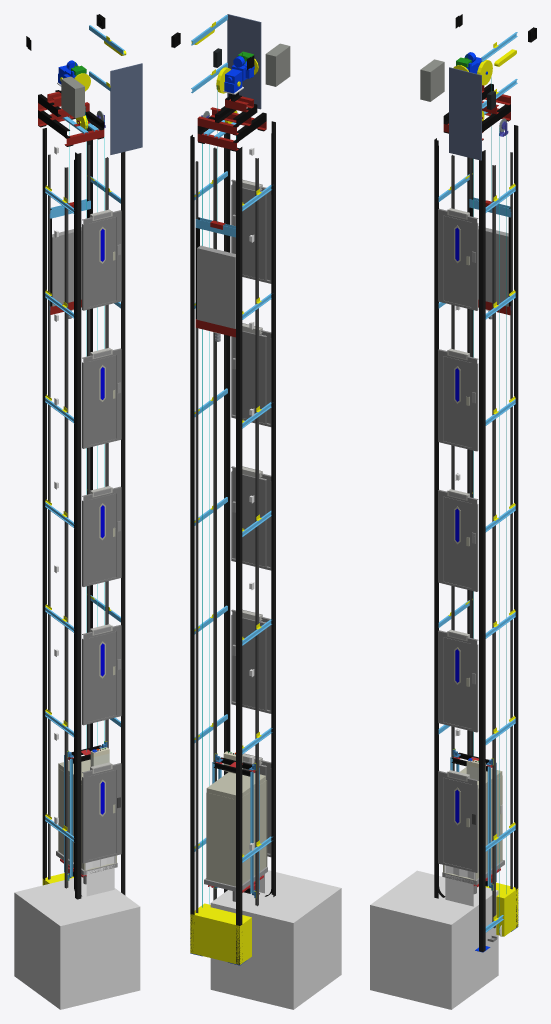
The model's file is elevator.glb.
3 views of the same model, side by side, from view 1: azimuth 30°, elevation 25°; view 2: azimuth 150°, elevation 25°; view 3: azimuth 330°, elevation 25° (orthographic). The views are drawn at different scales.
Visible parts, largest first — view 1: Cube, 01_L1.Geo.001, 01_L4.Geo., 01_L2.Geo.001, Door.Geo., 01_L1.Geo., ShaftDoor.Geo.065, ShaftDoor.Geo.045, ShaftDoor.Geo.005, ShaftDoor.Geo.025, ShaftDoor.Geo.085, 01_L2.Geo. (+30 smaller); view 2: Cube, 01_L3.Geo.001, 01_L2.Geo., 01_fond.Geo., Car.Geo.005, 01_L4.Geo., 01_L2.Geo.001, 01_L1.Geo., TravelingCable.Geo., Door.Geo., ShaftDoor.Geo.065, ShaftDoor.Geo.085 (+18 smaller); view 3: Cube, 01_L4.Geo., 01_L1.Geo.001, 01_L3.Geo., Door.Geo., 01_L4.Geo.001, ShaftDoor.Geo.025, ShaftDoor.Geo.065, ShaftDoor.Geo.045, ShaftDoor.Geo.005, ShaftDoor.Geo.085, 01_L3.Geo.001 (+20 smaller).
Boxes of the visible parts, box(x1,y1,x2,y2) form: Cube: box(14, 877, 140, 1009); 01_L1.Geo.001: box(77, 153, 81, 899); 01_L4.Geo.: box(121, 152, 125, 895); 01_L2.Geo.001: box(42, 129, 45, 884); Door.Geo.: box(110, 63, 142, 154); 01_L1.Geo.: box(75, 152, 77, 898); ShaftDoor.Geo.065: box(88, 355, 116, 445); ShaftDoor.Geo.045: box(88, 493, 116, 583); ShaftDoor.Geo.005: box(88, 770, 116, 859); ShaftDoor.Geo.025: box(88, 631, 116, 721); ShaftDoor.Geo.085: box(88, 217, 116, 306); 01_L2.Geo.: box(43, 128, 46, 877); Cube: box(210, 870, 341, 1009); 01_L3.Geo.001: box(190, 136, 194, 951); 01_L2.Geo.: box(236, 147, 239, 964); 01_fond.Geo.: box(190, 903, 251, 964); Car.Geo.005: box(206, 792, 235, 886); 01_L4.Geo.: box(226, 133, 230, 890); 01_L2.Geo.001: box(240, 147, 242, 963); 01_L1.Geo.: box(273, 122, 275, 896); TravelingCable.Geo.: box(271, 132, 273, 890); Door.Geo.: box(227, 14, 261, 109); ShaftDoor.Geo.065: box(242, 331, 266, 423); ShaftDoor.Geo.085: box(242, 187, 265, 279); Cube: box(370, 870, 498, 1009); 01_L4.Geo.: box(479, 151, 483, 951); 01_L1.Geo.001: box(434, 139, 438, 898); 01_L3.Geo.: box(515, 126, 518, 927); Door.Geo.: box(449, 67, 481, 160); 01_L4.Geo.001: box(483, 150, 485, 951); ShaftDoor.Geo.025: box(443, 637, 471, 728); ShaftDoor.Geo.065: box(443, 356, 471, 447); ShaftDoor.Geo.045: box(443, 496, 471, 588); ShaftDoor.Geo.005: box(443, 778, 471, 869); ShaftDoor.Geo.085: box(443, 215, 471, 307); 01_L3.Geo.001: box(514, 125, 517, 887).
Bounding box in the file's own units: 2.54 × 22.1 × 2.7.
